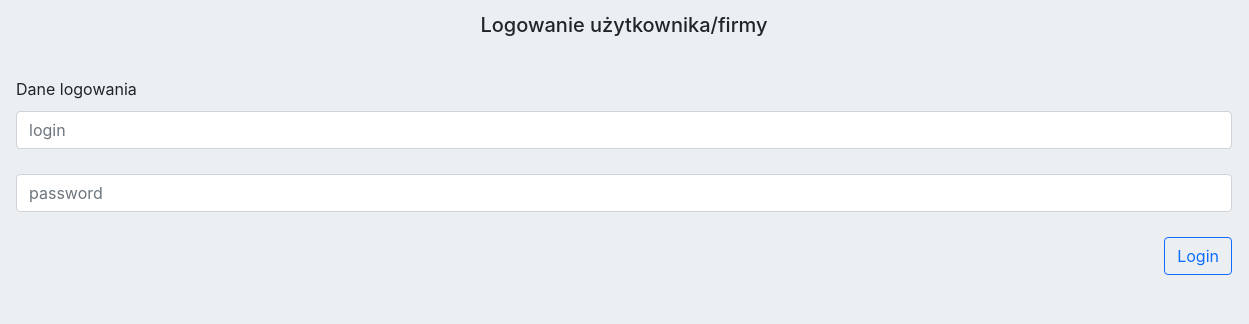
Test: LogIn component tests › should show wrong password/login combination
Type "bartek" into the field with placeholder "login" at (624, 130), box x1=16 y1=111 x2=1232 y2=149
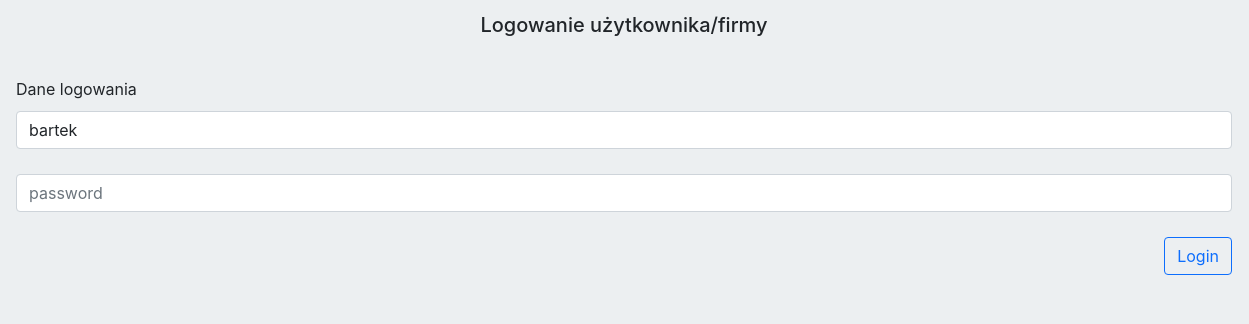
Type "wrong-pass" into the password field with placeholder "password" at (624, 193), box x1=16 y1=174 x2=1232 y2=212
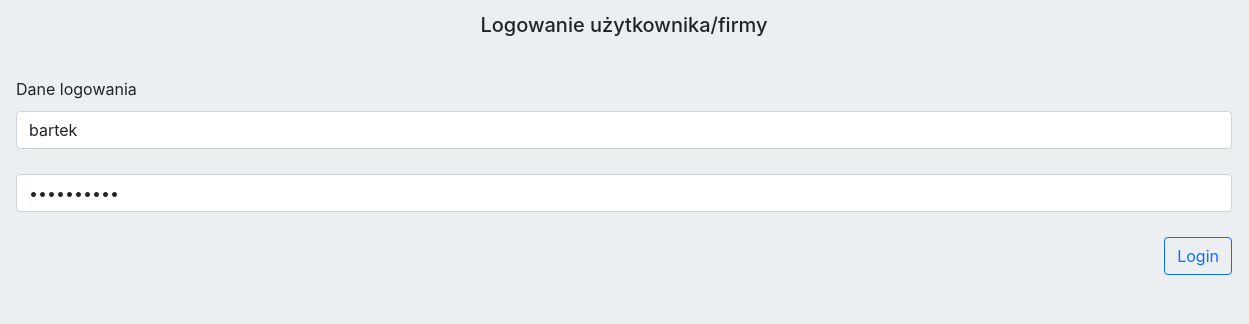
Click the button "Login" at (1198, 256), box x1=1177 y1=244 x2=1219 y2=268
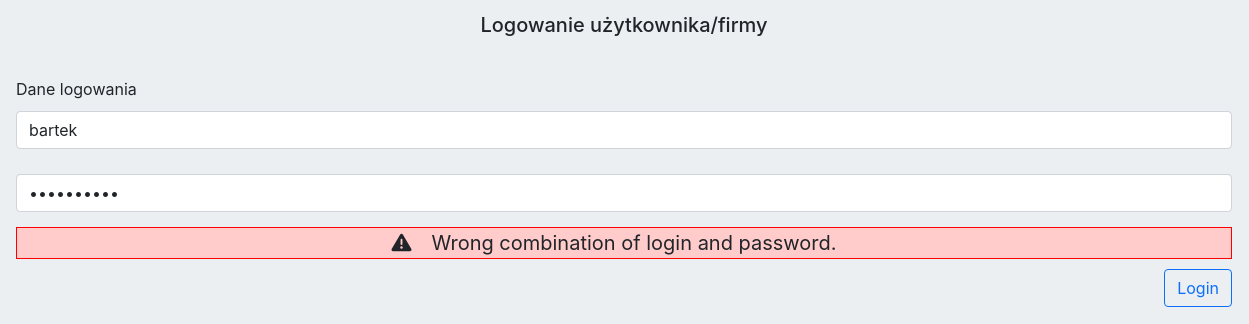
Result: the text "Wrong combination of login and password." is shown at x1=431 y1=228 x2=836 y2=258
